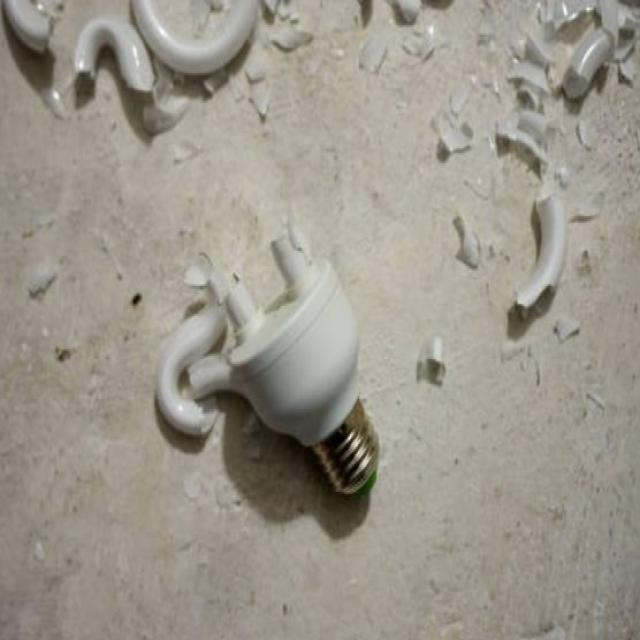electronic: (154, 212, 380, 498), (129, 0, 259, 75), (72, 13, 156, 93), (514, 193, 566, 311), (0, 0, 68, 55)
